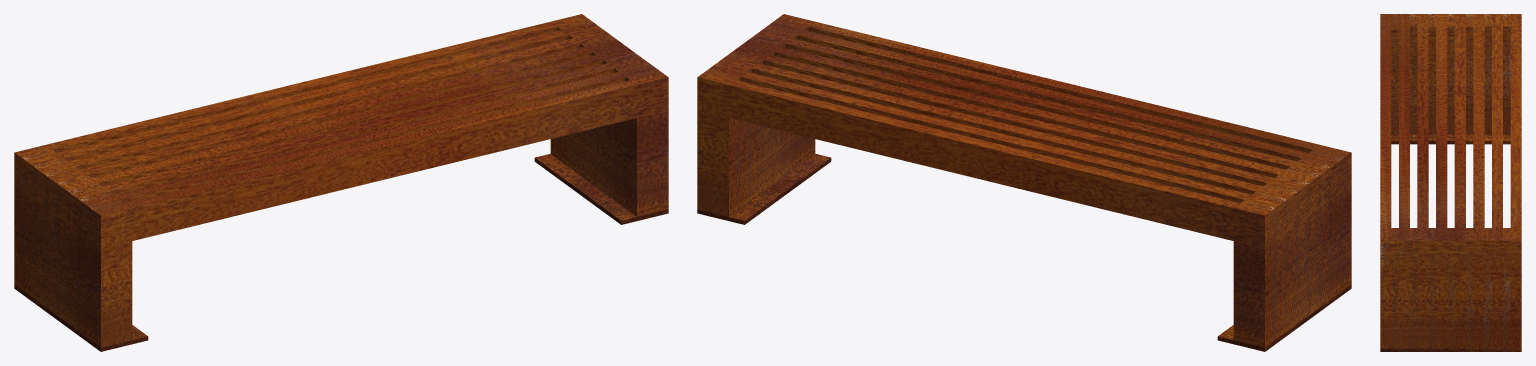
3 renders of one model, left to right at view 1: azimuth 30°, elevation 25°; view 2: azimuth 150°, elevation 25°; view 3: azimuth 270°, elevation 25°, orthographic. The views are drawn at different scales.
Parts seen in each view (by area): view 1: mesh1_mesh1-geometry; view 2: mesh1_mesh1-geometry; view 3: mesh1_mesh1-geometry.
Boxes of the visible parts, x1=… form: mesh1_mesh1-geometry: x1=14, y1=14, x2=668, y2=351; mesh1_mesh1-geometry: x1=697, y1=14, x2=1351, y2=351; mesh1_mesh1-geometry: x1=1380, y1=14, x2=1521, y2=351.
Bounding box in the file's own units: 0.944 × 0.2163 × 0.2491.
